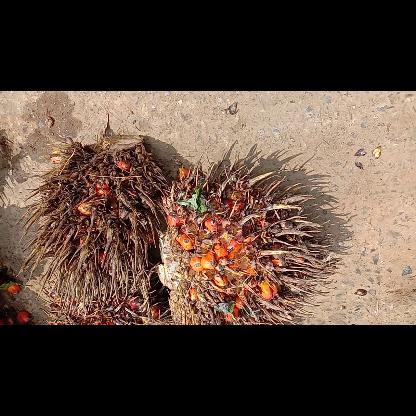Terlalu masak: (154, 150, 346, 324), (14, 131, 178, 309)
